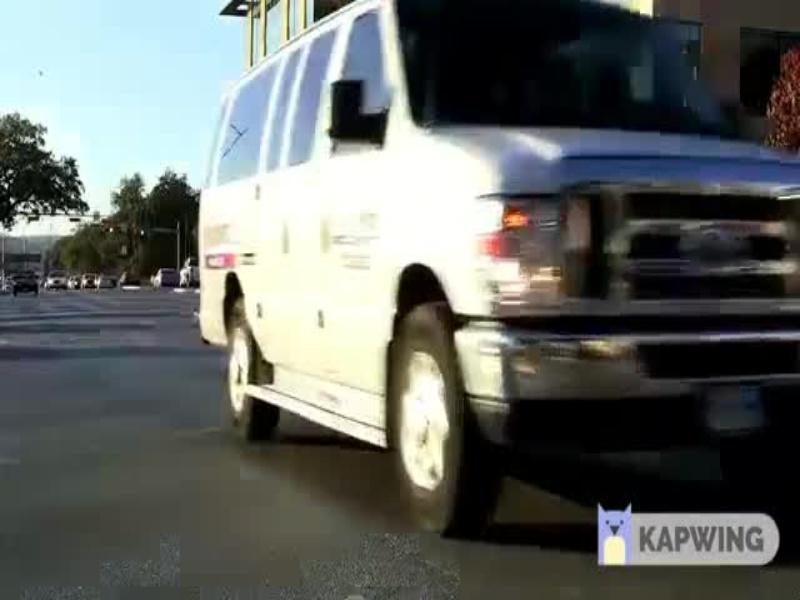van: (199, 2, 800, 539)
